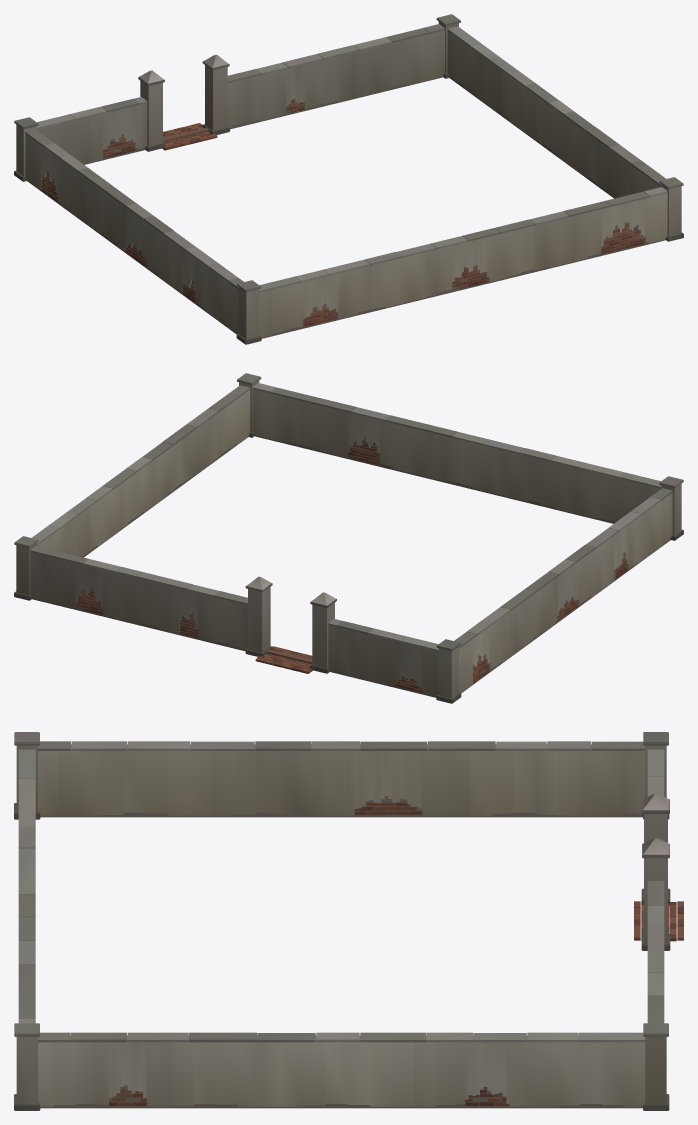
The model's file is house_plots_4.glb.
3 renders of one model, top to bottom at view 1: azimuth 30°, elevation 25°; view 2: azimuth 150°, elevation 25°; view 3: azimuth 270°, elevation 25°, orthographic. The views are drawn at different scales.
Visible parts, largest first — view 1: house_plots_4_hb_main; view 2: house_plots_4_hb_main; view 3: house_plots_4_hb_main.
Boxes of the visible parts, box(x1,y1,x2,y2) form: house_plots_4_hb_main: box(14, 14, 683, 344); house_plots_4_hb_main: box(14, 373, 683, 703); house_plots_4_hb_main: box(14, 732, 683, 1110).
Size of the model in its own units: 11.42 by 1.87 by 10.69.
